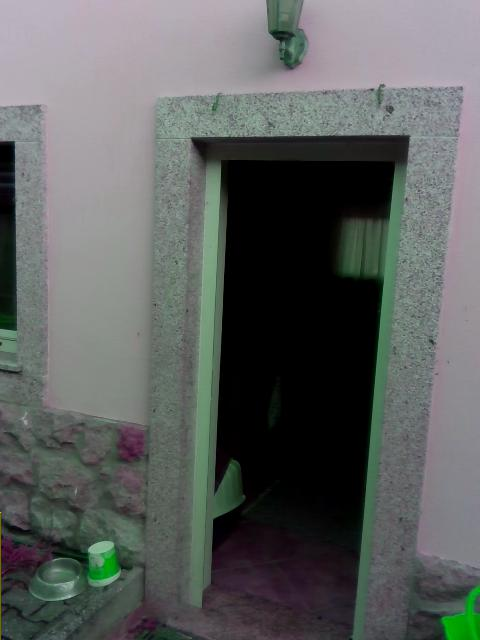open_door: (185, 135, 412, 639)
